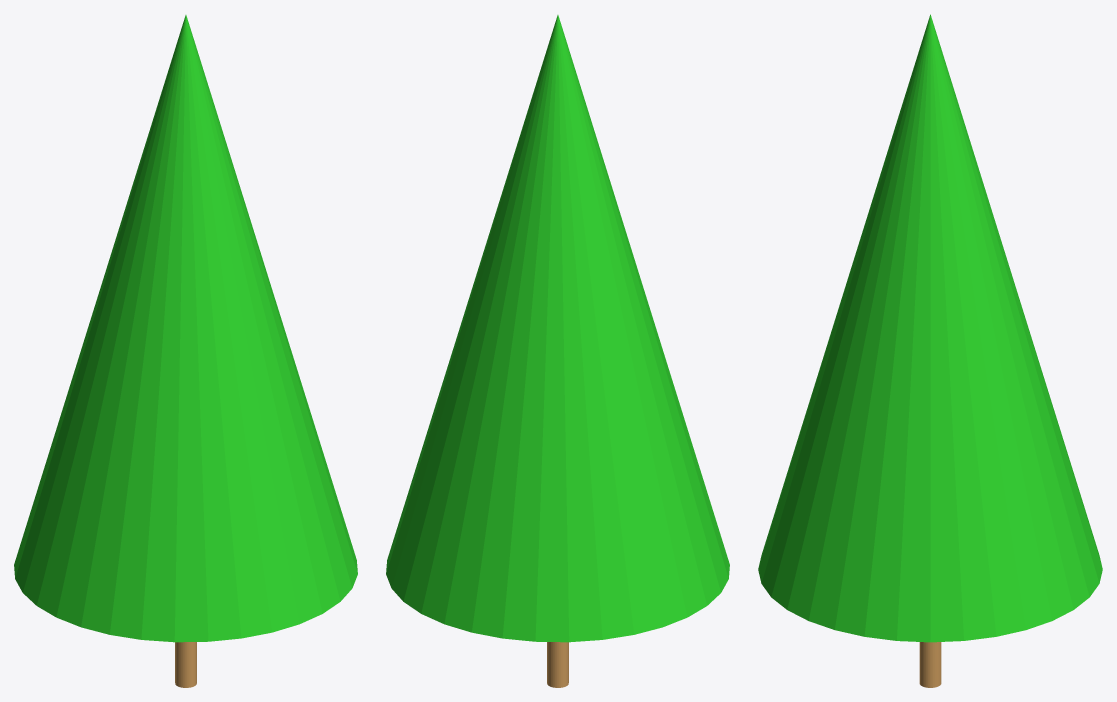
File: big Chrismas.fbx
3 renders of one model, left to right at view 1: azimuth 30°, elevation 25°; view 2: azimuth 150°, elevation 25°; view 3: azimuth 270°, elevation 25°, orthographic.
Visible parts, largest first — view 1: big chrismas; view 2: big chrismas; view 3: big chrismas.
Boxes of the visible parts, left/top/right/bottom form: big chrismas: left=14, top=15, right=357, bottom=687; big chrismas: left=386, top=15, right=729, bottom=687; big chrismas: left=758, top=14, right=1102, bottom=687.
Bounding box in the file's own units: 817 × 1751 × 817.
